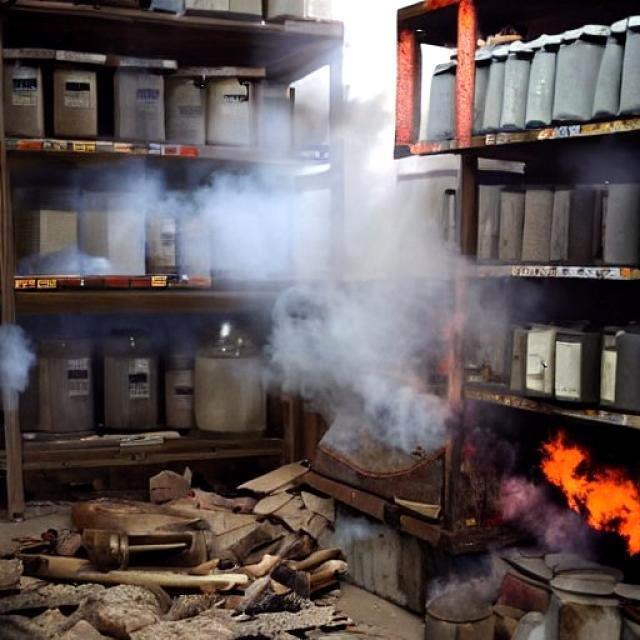Fire: (537, 431, 640, 548)
Smoke: (89, 29, 519, 282), (247, 270, 498, 450), (0, 325, 36, 405)
